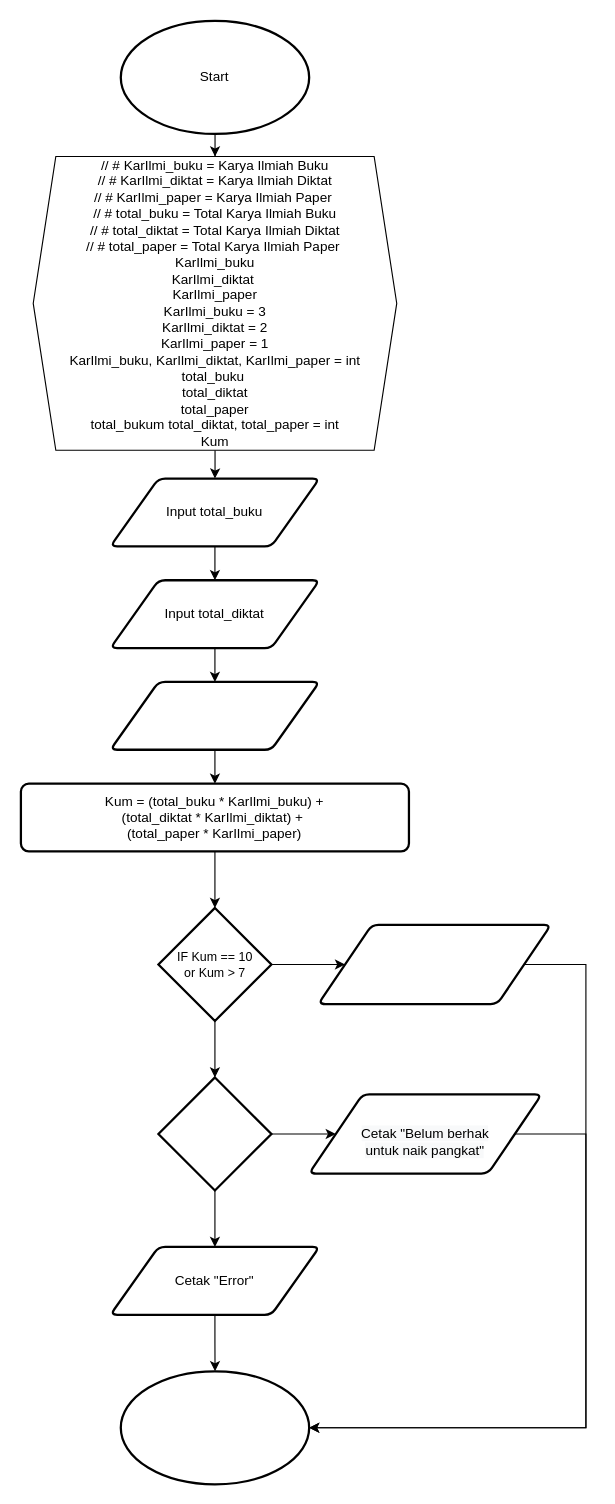
Some shapes in this 615 by 1504 pixel diagram are drawn without their labels. Here are the shapes that lost their labels. From the top down, the centre of each, then its label:
(214,715): Input total_paper
(434,964): Cetak "Dalam Pertimbangan untuk naik pangkat"
(214,1133): IF Kum < 7
(214,1427): End
